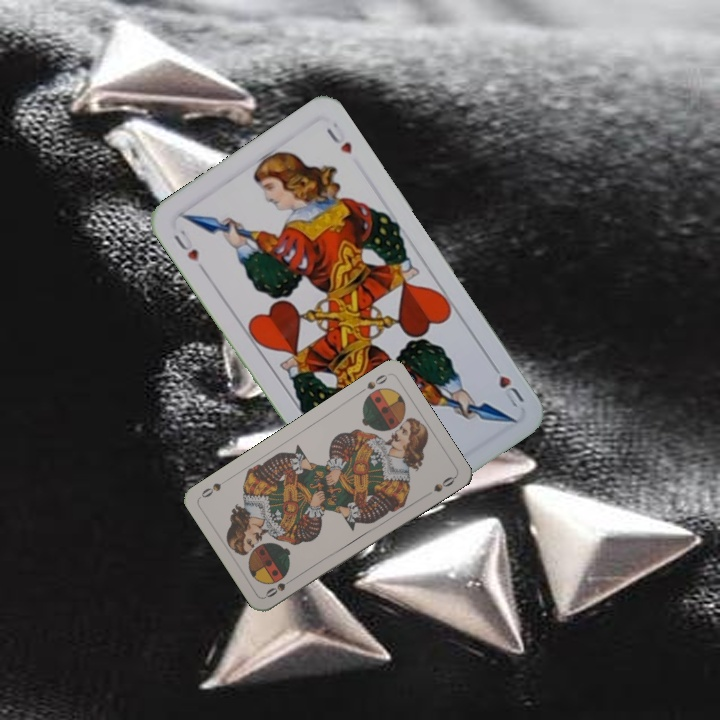HU: (486, 358, 527, 410), (169, 225, 202, 264)
SO: (261, 573, 298, 600), (354, 370, 390, 397)
